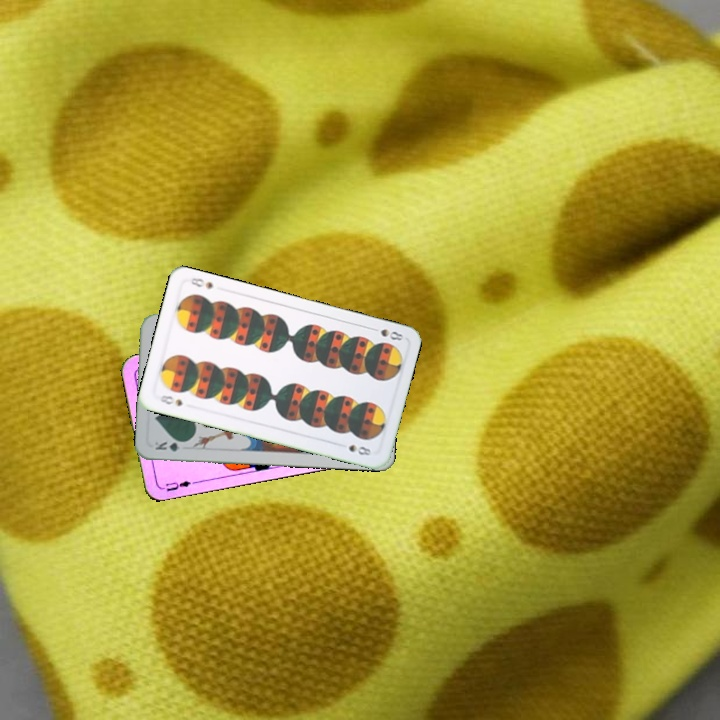EU: (157, 476, 198, 494)
GK: (151, 437, 190, 454)
S8: (366, 323, 406, 343), (155, 391, 185, 409)
